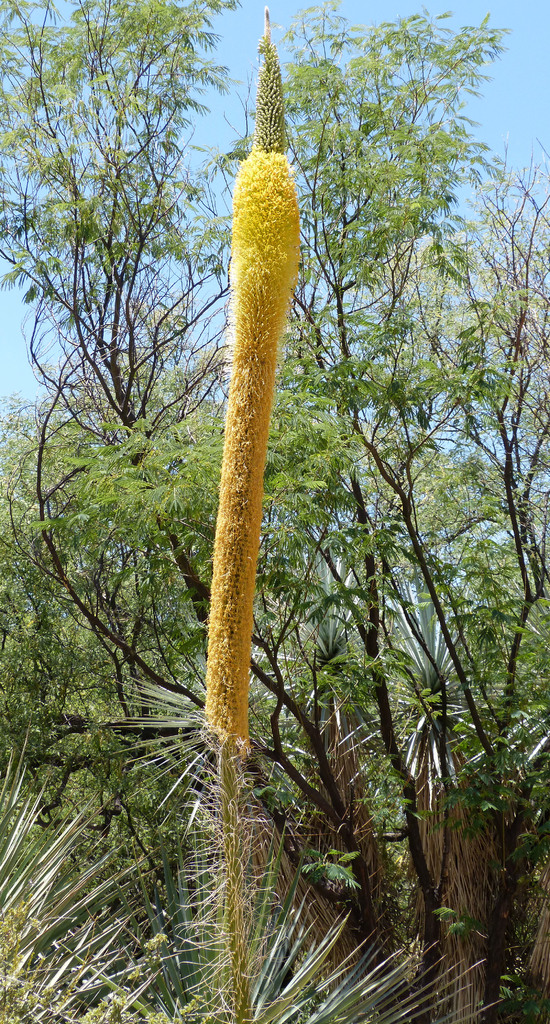Tree: (0, 0, 549, 1017)
